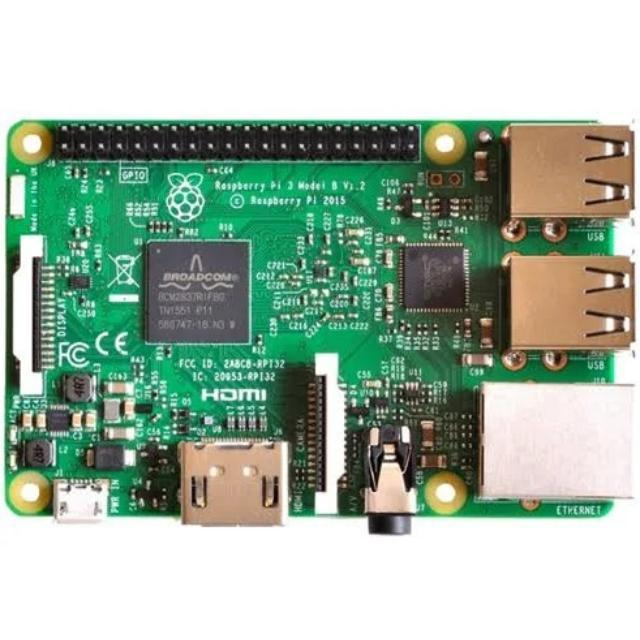Raspberry-Pi-3-B: (5, 122, 636, 535)
